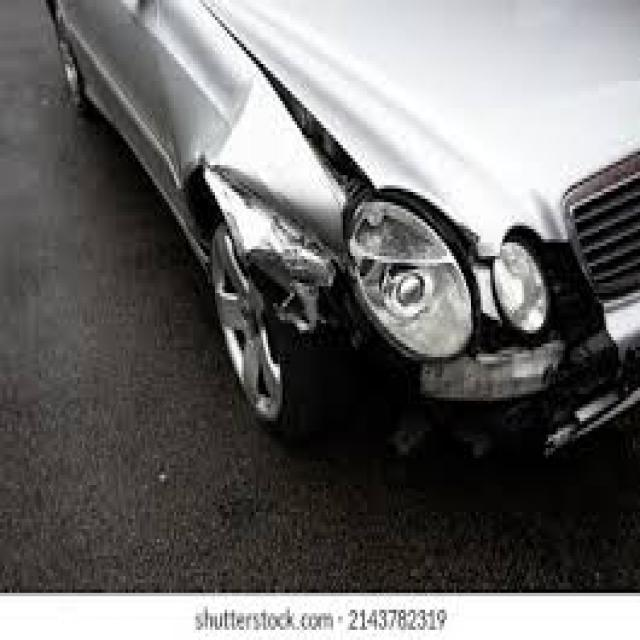damaged-head-light: (343, 190, 498, 364)
